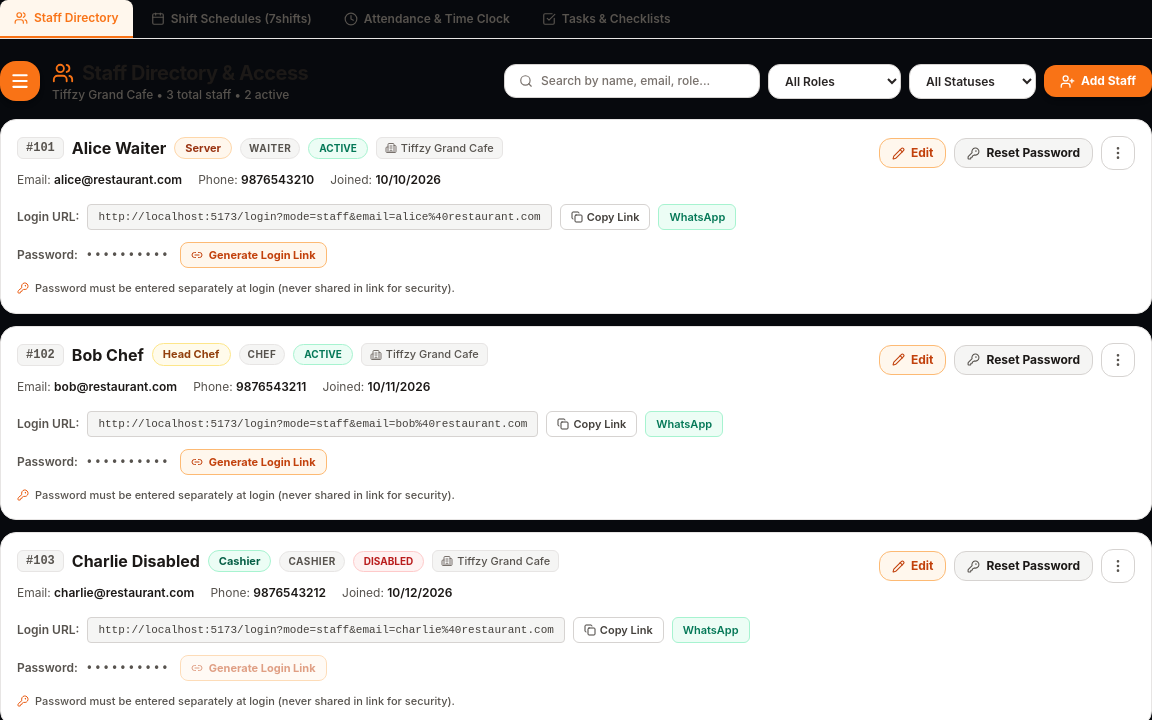
Test: Phase 2 — OwnerStaff Management Component › 4. Filters staff by active/disabled status
Expected: the text "Alice Waiter" is shown, [72,136,166,160]
Select "Disabled Only" in the dropdown named "filter staff by active status" at point(972, 81), box [909,64,1036,98]
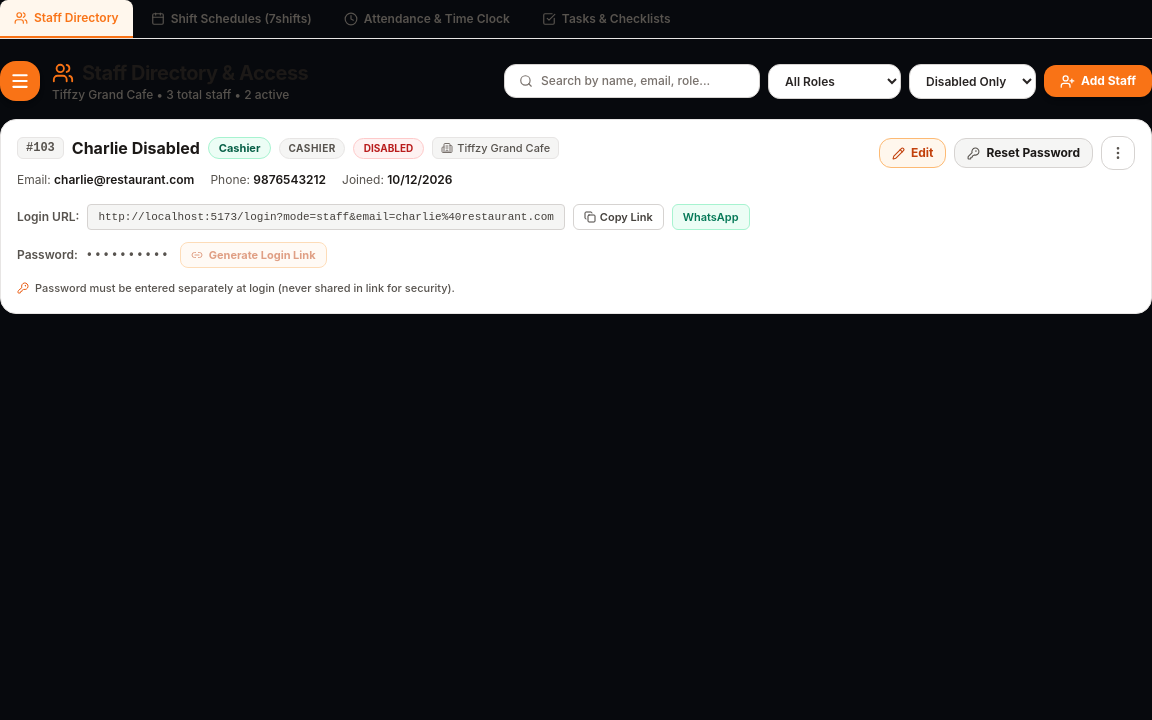
Expected: the text "Charlie Disabled" is shown, [72,136,200,160]
Now the text "Alice Waiter" is gone
